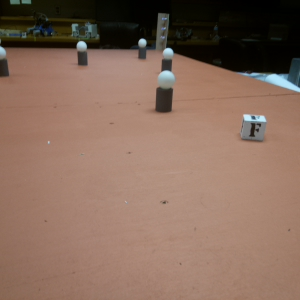blockF: (237, 111, 269, 144)
corner: (157, 9, 168, 51)
obstacle: (156, 71, 174, 113), (77, 41, 88, 69), (161, 47, 173, 72), (137, 36, 148, 60), (1, 47, 8, 78)
